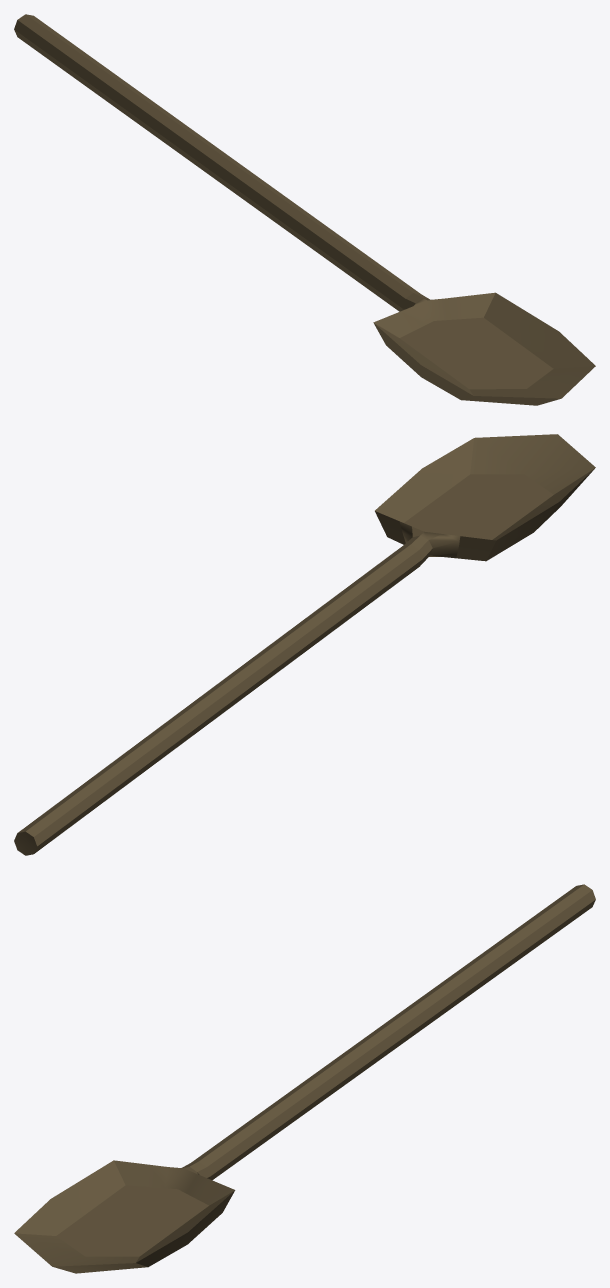
Rendered from rame.fbx.
3 renders of one model, top to bottom at view 1: azimuth 30°, elevation 25°; view 2: azimuth 150°, elevation 25°; view 3: azimuth 330°, elevation 25°, orthographic.
Visible parts, largest first — view 1: pCylinder2; view 2: pCylinder2; view 3: pCylinder2.
Part boxes in pixels (x1,y1,x2,y2): pCylinder2: (14, 14, 595, 405); pCylinder2: (14, 434, 595, 855); pCylinder2: (14, 884, 595, 1273).
Bounding box in the file's own units: 1.62 × 0.3592 × 10.89.
